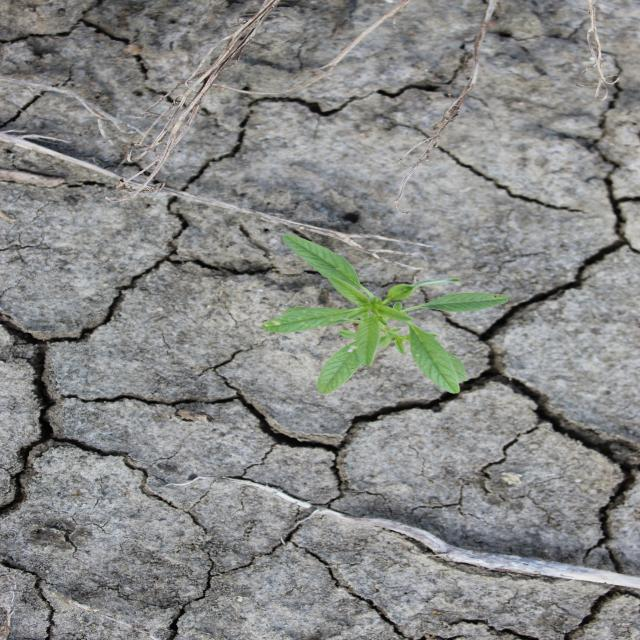Waterhemp: (258, 233, 511, 397)
